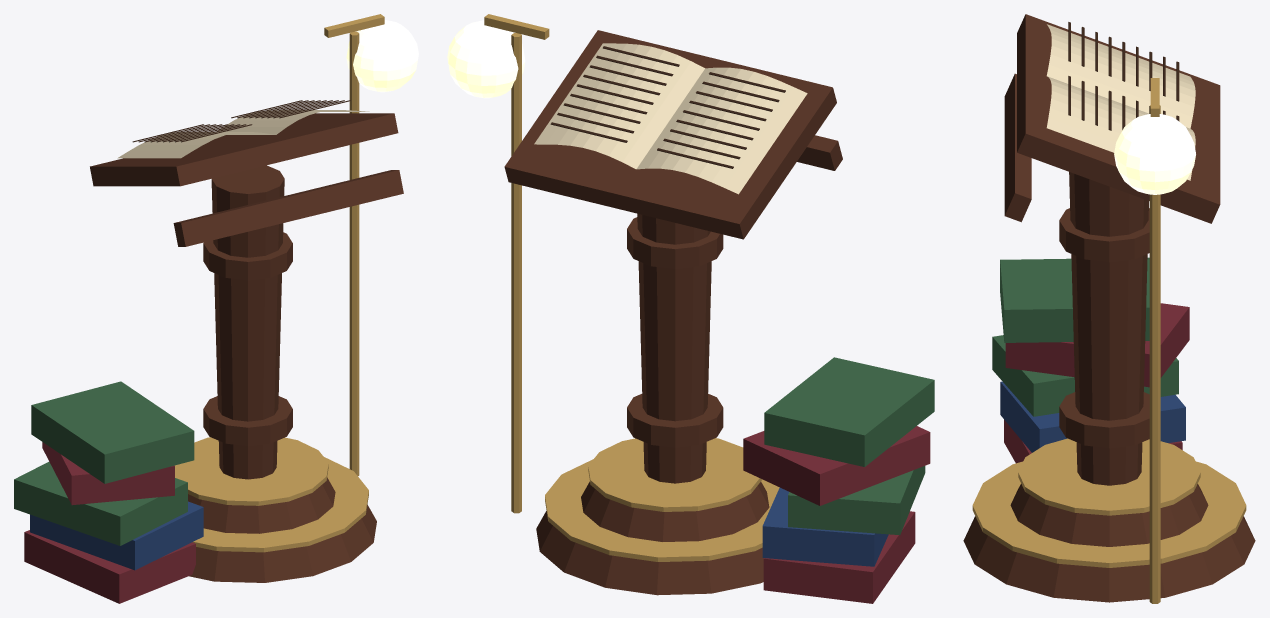
Rendered from babel_lectern.glb.
3 renders of one model, left to right at view 1: azimuth 30°, elevation 25°; view 2: azimuth 150°, elevation 25°; view 3: azimuth 270°, elevation 25°, orthographic. The views are drawn at different scales.
Visible parts, largest first — view 1: lec_stand, lec_brass, lec_pile4, lec_pile2, lec_pile0, lec_lamp_arm, lec_pile1, lec_lamp, lec_pile3, lec_book, lec_book_ink; view 2: lec_stand, lec_book, lec_brass, lec_pile4, lec_pile3, lec_pile0, lec_lamp_arm, lec_pile2, lec_pile1, lec_book_ink, lec_lamp; view 3: lec_stand, lec_brass, lec_book, lec_pile4, lec_lamp_arm, lec_lamp, lec_pile3, lec_pile2, lec_pile1, lec_book_ink, lec_pile0.
Boxes of the visible parts, x1=… form: lec_stand: x1=90, y1=113, x2=403, y2=582; lec_brass: x1=175, y1=437, x2=368, y2=552; lec_pile4: x1=31, y1=381, x2=194, y2=483; lec_pile2: x1=14, y1=462, x2=187, y2=545; lec_pile0: x1=24, y1=530, x2=195, y2=603; lec_lamp_arm: x1=324, y1=14, x2=384, y2=475; lec_pile1: x1=30, y1=501, x2=203, y2=570; lec_lamp: x1=346, y1=20, x2=418, y2=92; lec_pile3: x1=42, y1=442, x2=174, y2=505; lec_book: x1=117, y1=110, x2=369, y2=158; lec_book_ink: x1=132, y1=100, x2=350, y2=142; lec_stand: x1=504, y1=30, x2=842, y2=595; lec_book: x1=534, y1=43, x2=807, y2=194; lec_brass: x1=545, y1=438, x2=779, y2=561; lec_pile4: x1=764, y1=357, x2=934, y2=466; lec_pile3: x1=743, y1=426, x2=930, y2=505; lec_pile0: x1=763, y1=511, x2=915, y2=603; lec_lamp_arm: x1=484, y1=14, x2=549, y2=513; lec_pile2: x1=788, y1=466, x2=925, y2=535; lec_pile1: x1=762, y1=487, x2=888, y2=566; lec_book_ink: x1=550, y1=46, x2=785, y2=168; lec_lamp: x1=447, y1=20, x2=525, y2=98; lec_stand: x1=963, y1=14, x2=1255, y2=602; lec_brass: x1=972, y1=438, x2=1246, y2=567; lec_book: x1=1046, y1=24, x2=1195, y2=180; lec_pile4: x1=1000, y1=257, x2=1149, y2=342; lec_lamp_arm: x1=1149, y1=78, x2=1160, y2=603; lec_lamp: x1=1114, y1=114, x2=1195, y2=194; lec_pile3: x1=1005, y1=303, x2=1189, y2=387; lec_pile2: x1=992, y1=335, x2=1178, y2=416; lec_pile1: x1=1000, y1=381, x2=1185, y2=452; lec_book_ink: x1=1068, y1=22, x2=1179, y2=130; lec_pile0: x1=1004, y1=419, x2=1182, y2=463.
Bounding box in the file's own units: 1.16 × 1.25 × 0.64.
